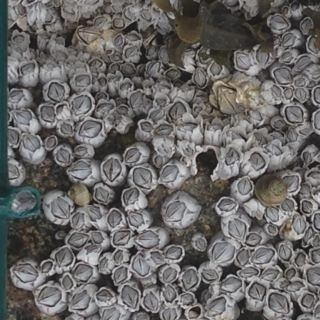Barnacle: (216, 86, 244, 117), (77, 16, 107, 42), (164, 198, 186, 221), (211, 242, 234, 263), (102, 157, 122, 181), (267, 292, 289, 313), (38, 286, 62, 305), (135, 230, 159, 249), (12, 264, 37, 282), (72, 95, 92, 117), (68, 160, 91, 179), (78, 119, 102, 136), (71, 290, 90, 311), (121, 286, 139, 308), (133, 167, 151, 189), (207, 296, 226, 316), (247, 281, 267, 300), (47, 82, 66, 102), (72, 264, 93, 282), (51, 197, 69, 218), (121, 186, 139, 207), (228, 218, 245, 240), (250, 248, 273, 264), (55, 247, 73, 267), (248, 151, 266, 171), (133, 254, 150, 275), (284, 105, 303, 123), (282, 175, 300, 193), (273, 67, 291, 85), (169, 101, 186, 120), (182, 269, 198, 289), (159, 165, 179, 181), (293, 54, 313, 70), (221, 277, 242, 292), (22, 133, 39, 151), (67, 232, 87, 247), (71, 210, 86, 230), (144, 290, 158, 311), (234, 52, 251, 69), (40, 105, 56, 123), (161, 283, 176, 302), (112, 230, 131, 245), (12, 109, 32, 123), (192, 67, 206, 87), (306, 265, 319, 286), (107, 210, 122, 228), (123, 148, 141, 163), (269, 15, 288, 29), (127, 211, 143, 227), (129, 90, 144, 107), (100, 307, 121, 319), (292, 216, 306, 234), (224, 147, 238, 165), (154, 123, 175, 135), (255, 47, 269, 65), (265, 206, 280, 222), (282, 32, 298, 47), (165, 246, 182, 260), (237, 177, 251, 194), (87, 205, 102, 220), (19, 62, 35, 76), (197, 46, 211, 62), (95, 289, 112, 302), (114, 266, 127, 283), (261, 268, 279, 280), (201, 267, 219, 279), (218, 198, 236, 210), (150, 250, 164, 265), (75, 73, 89, 88), (236, 249, 249, 265), (56, 147, 69, 163), (266, 144, 282, 157), (279, 243, 291, 260), (302, 227, 314, 244), (308, 35, 319, 53), (145, 60, 159, 74), (301, 293, 314, 308), (156, 19, 169, 34), (7, 162, 19, 178), (6, 128, 18, 144), (57, 100, 69, 116), (209, 59, 221, 75), (163, 267, 176, 281), (246, 233, 260, 246), (279, 198, 293, 211), (9, 89, 23, 102), (278, 51, 293, 63), (61, 274, 72, 290), (149, 109, 165, 120), (181, 293, 194, 306), (162, 307, 176, 319), (247, 109, 261, 121), (300, 18, 312, 32), (287, 127, 298, 142), (124, 7, 135, 22), (239, 267, 257, 276), (206, 121, 222, 131), (97, 102, 113, 112), (59, 123, 72, 135), (295, 88, 307, 101), (124, 45, 137, 57), (92, 230, 103, 244), (164, 69, 178, 80), (179, 122, 196, 131), (160, 46, 169, 63), (159, 142, 171, 154), (254, 132, 266, 144), (300, 200, 311, 213), (300, 181, 311, 194), (121, 63, 134, 74), (43, 9, 54, 22), (139, 8, 150, 21), (271, 86, 281, 100), (28, 20, 38, 34), (311, 247, 319, 264), (225, 0, 240, 9), (285, 267, 296, 279), (300, 151, 311, 163), (75, 146, 87, 157), (139, 120, 151, 131), (272, 119, 284, 130), (112, 17, 124, 28), (146, 43, 156, 56), (296, 251, 305, 265), (64, 56, 82, 63), (308, 170, 319, 181), (42, 260, 52, 272), (194, 237, 204, 249), (154, 97, 166, 107), (68, 63, 85, 70), (289, 281, 302, 290), (99, 257, 108, 270), (114, 250, 123, 263), (116, 105, 129, 114), (12, 34, 25, 43), (284, 88, 293, 100), (89, 59, 101, 68), (126, 33, 139, 41), (267, 225, 277, 235), (289, 1, 299, 11), (310, 68, 319, 79), (157, 84, 171, 91), (110, 54, 122, 62), (62, 6, 74, 14), (86, 245, 99, 252), (183, 145, 193, 154), (97, 76, 107, 85), (109, 63, 119, 72), (113, 35, 122, 45), (120, 81, 131, 89), (294, 78, 305, 86), (109, 74, 120, 82), (54, 50, 65, 58), (177, 85, 189, 92), (46, 137, 55, 146), (155, 156, 163, 166), (17, 4, 25, 14), (289, 145, 295, 156), (61, 0, 77, 4), (51, 0, 59, 7), (313, 189, 319, 198), (137, 314, 146, 319)
